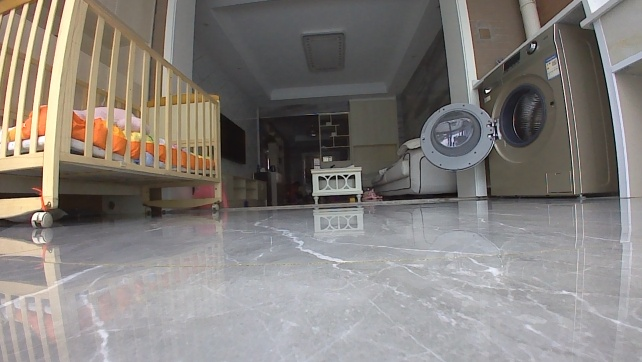TV_stand1: (217, 174, 271, 210)
sofa: (362, 136, 457, 198)
tea_table: (309, 162, 365, 202)
washing_machine: (415, 20, 621, 200)
